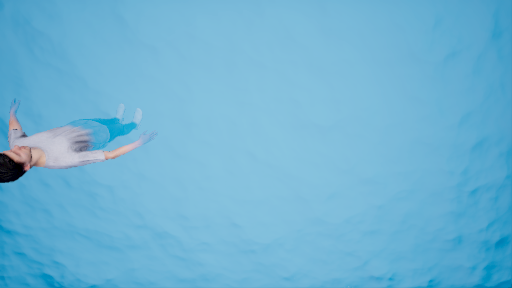person: (1, 97, 159, 182)
